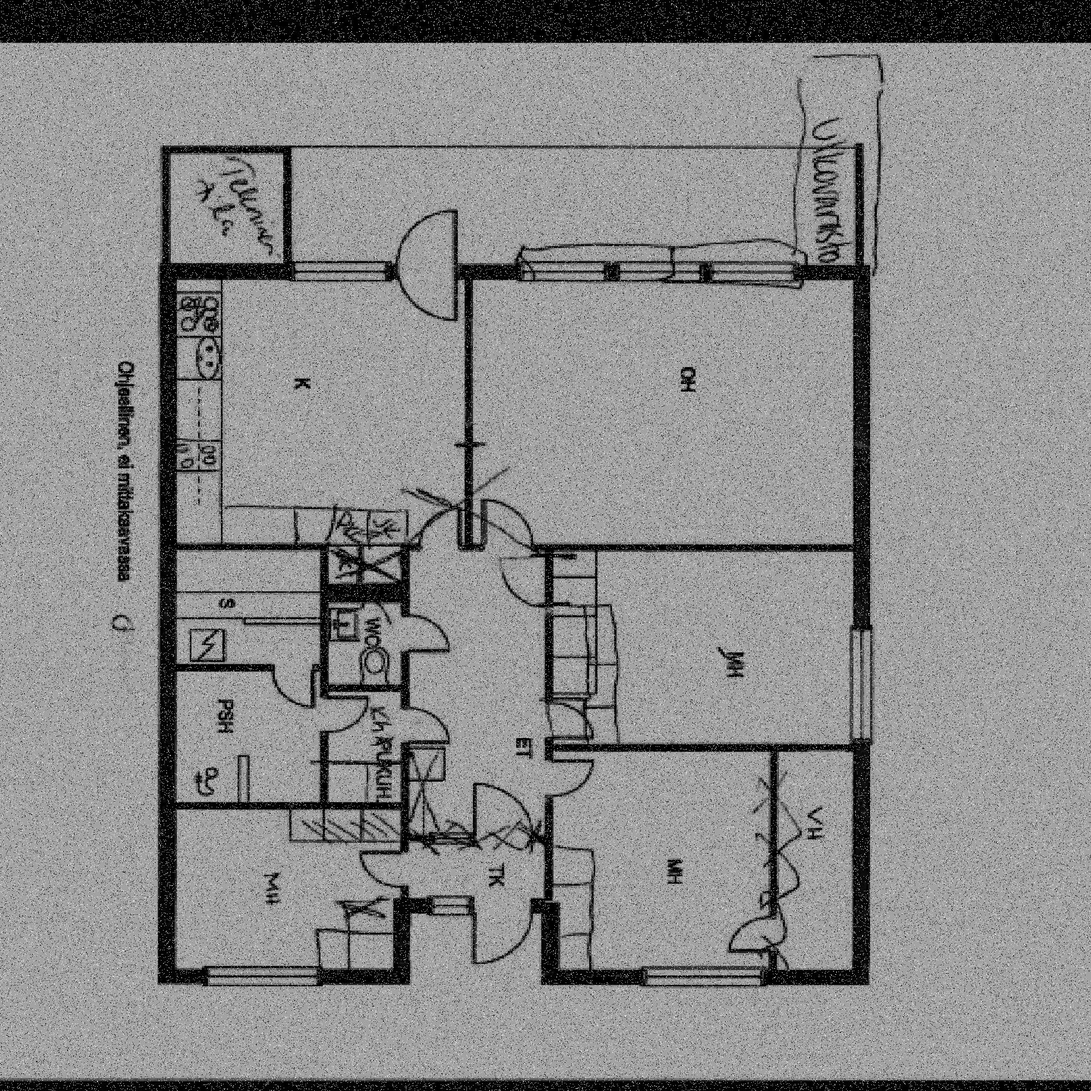wall: (160, 265, 176, 985), (854, 265, 870, 985), (160, 265, 870, 279), (543, 971, 870, 985), (159, 971, 411, 985), (401, 546, 409, 901), (395, 901, 559, 916), (545, 745, 854, 752), (545, 546, 854, 553), (321, 553, 328, 804), (862, 55, 870, 265), (176, 546, 409, 553), (175, 804, 402, 811), (798, 55, 805, 265), (464, 279, 472, 448), (543, 901, 559, 985), (395, 901, 411, 985), (545, 745, 553, 901), (579, 605, 586, 745), (176, 665, 321, 671), (161, 146, 168, 265), (284, 146, 291, 265), (161, 147, 291, 153), (545, 546, 553, 612), (798, 55, 870, 62), (329, 686, 401, 692), (545, 605, 586, 611), (160, 265, 176, 279)
